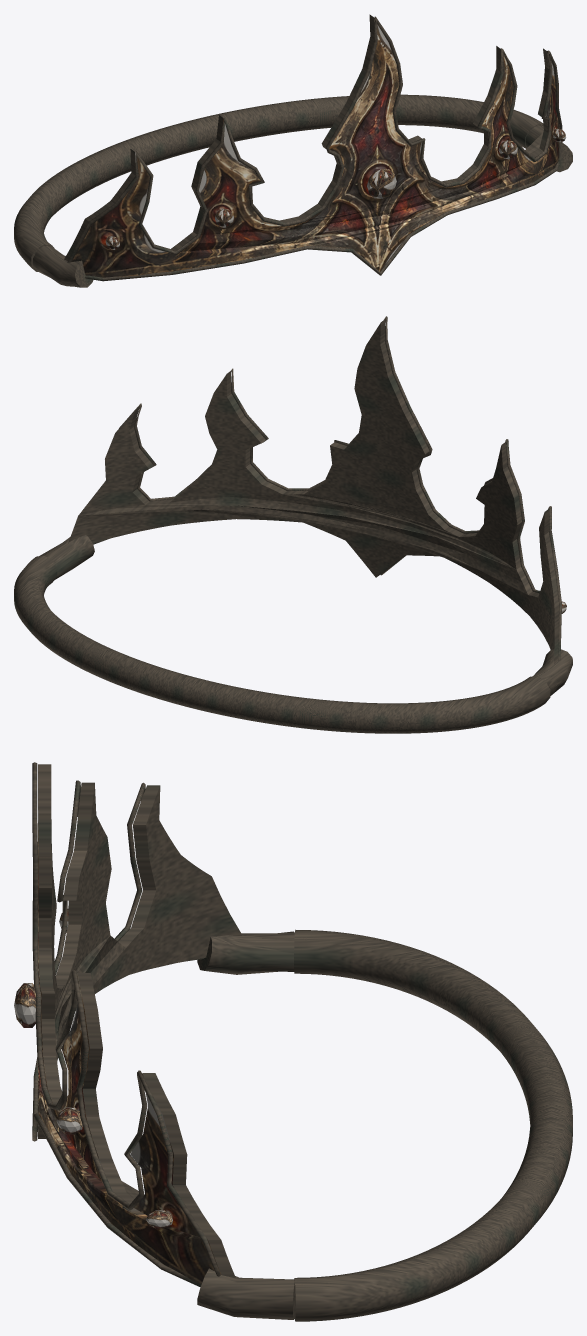
The model's file is inferno.glb.
3 views of the same model, one above another, from view 1: azimuth 30°, elevation 25°; view 2: azimuth 150°, elevation 25°; view 3: azimuth 270°, elevation 25° (orthographic). The views are drawn at different scales.
Visible parts, largest first — view 1: Flame crown forged front, Rear rolled circlet, Raised crown perimeter, Circlet side connection, Seated garnet, Circlet side connection.001; view 2: Flame crown forged front, Rear rolled circlet, Raised crown perimeter, Circlet side connection.001, Circlet side connection; view 3: Flame crown forged front, Rear rolled circlet, Raised crown perimeter, Circlet side connection.001, Circlet side connection, Seated garnet.
Boxes of the visible parts, bbox=[...] form: Flame crown forged front: bbox=[64, 14, 559, 277]; Rear rolled circlet: bbox=[14, 94, 543, 271]; Raised crown perimeter: bbox=[67, 16, 562, 281]; Circlet side connection: bbox=[33, 245, 93, 287]; Seated garnet: bbox=[367, 169, 396, 198]; Circlet side connection.001: bbox=[526, 125, 572, 172]; Flame crown forged front: bbox=[68, 319, 558, 663]; Rear rolled circlet: bbox=[14, 555, 550, 733]; Raised crown perimeter: bbox=[83, 316, 561, 660]; Circlet side connection.001: bbox=[39, 535, 94, 579]; Circlet side connection: bbox=[532, 649, 572, 695]; Flame crown forged front: bbox=[38, 764, 242, 1284]; Rear rolled circlet: bbox=[294, 929, 572, 1321]; Raised crown perimeter: bbox=[32, 762, 220, 1287]; Circlet side connection.001: bbox=[197, 1268, 294, 1319]; Circlet side connection: bbox=[197, 931, 294, 974]; Seated garnet: bbox=[14, 983, 35, 1027].
Size of the model in its own units: 0.26 by 0.1259 by 0.1678.
2 materials, 2 textured.
